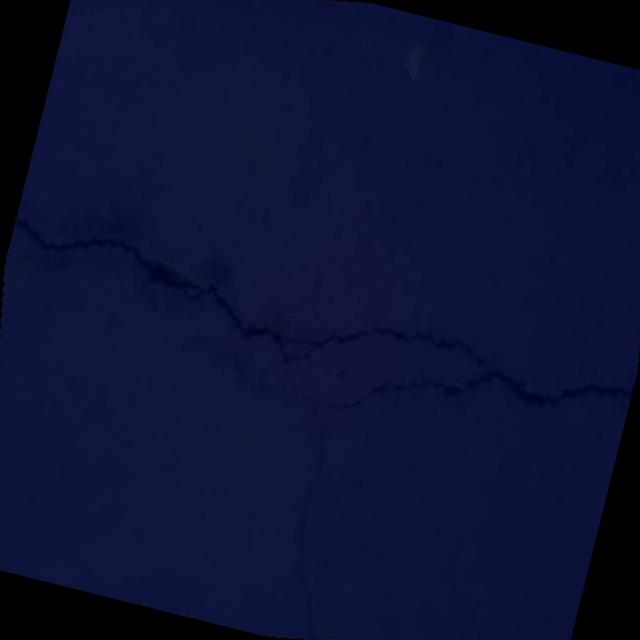crack: (0, 111, 640, 640), (286, 561, 331, 640)
